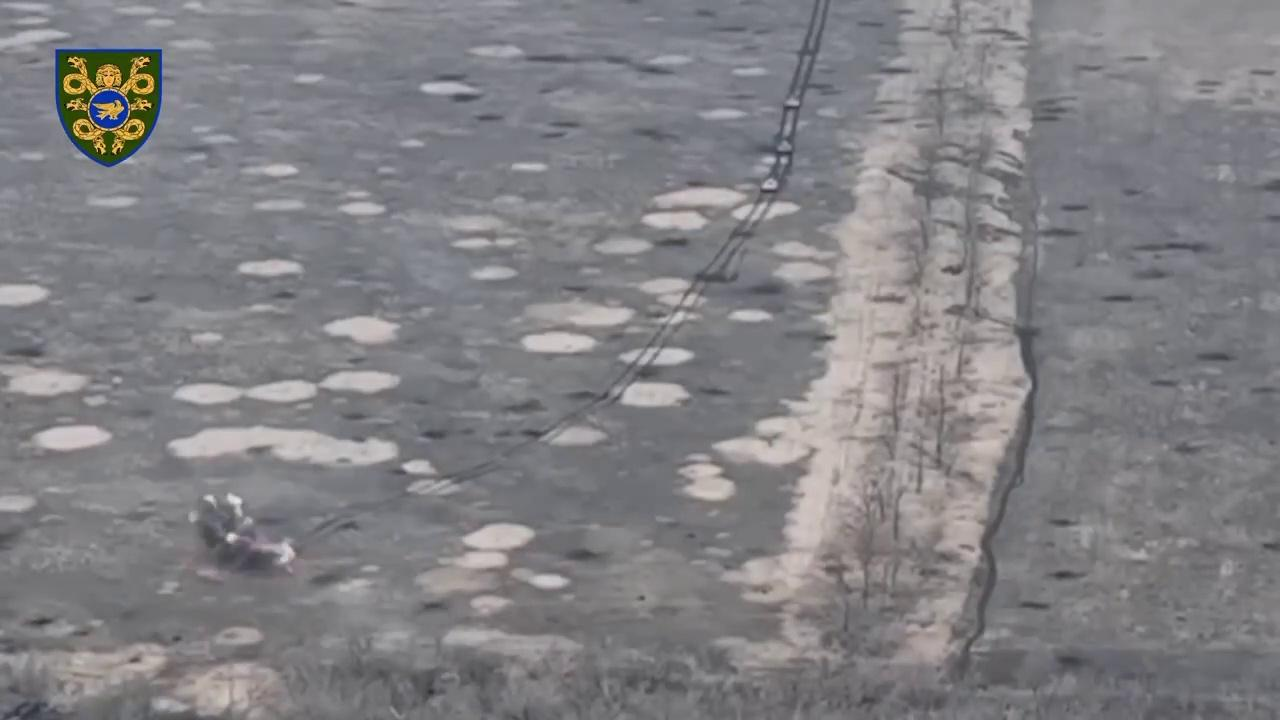vehicle: (760, 175, 778, 196), (778, 140, 793, 155), (784, 96, 800, 110)
